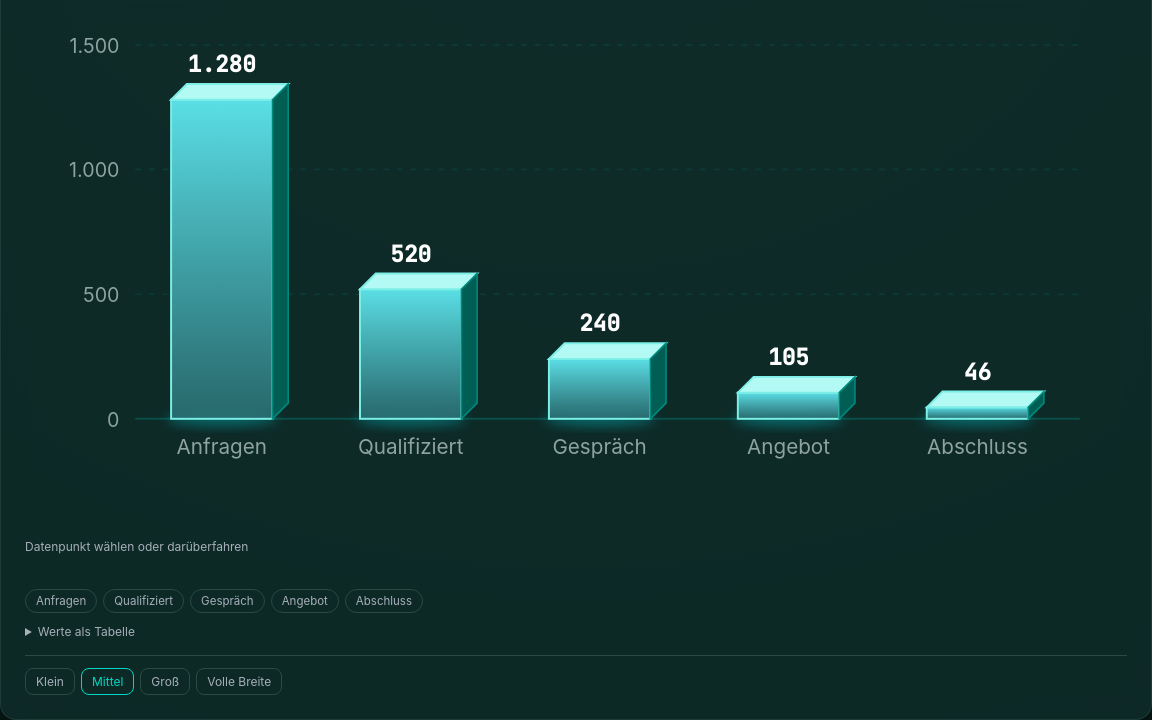
Scenario: DashboardDesignPreview › zeigt Wert, Einheit, Kategorie und Zeitraum, wenn eine Säule per Schaltfläche gewählt wird
(page scrolled)
Click the button "Gespräch": (227, 601) [190,589,265,613]
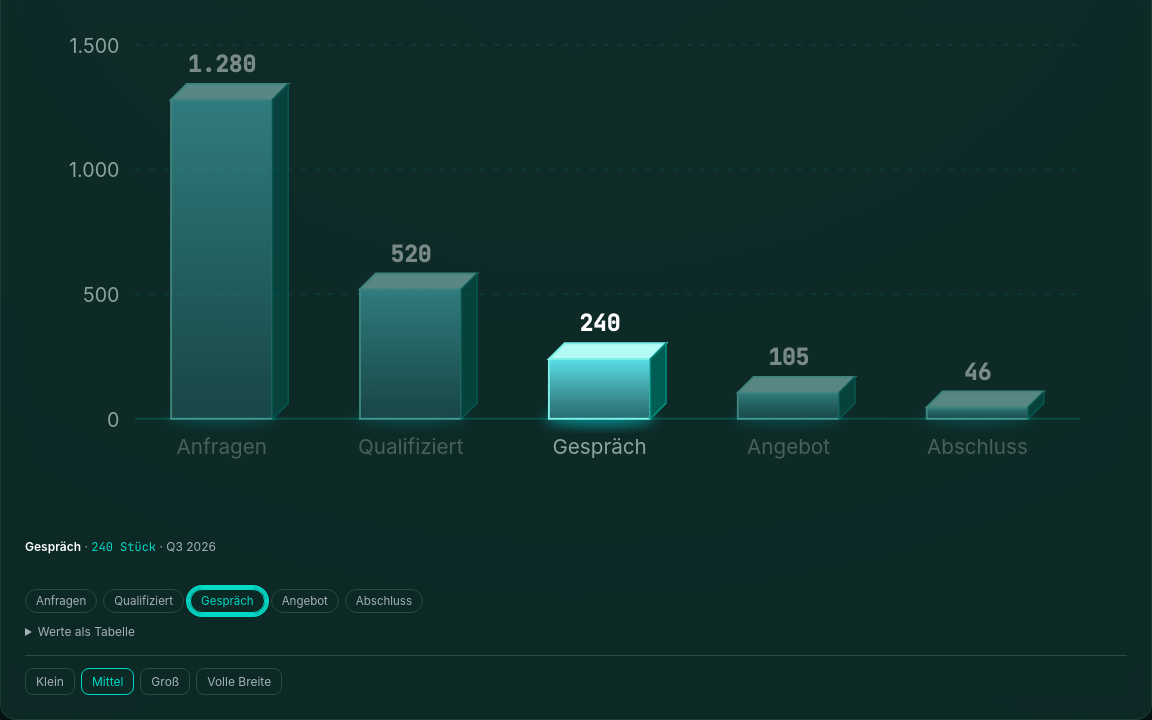
Result: the message with test id "chart-readout" shows "Gespräch" at [25,539,81,554]
Result: the message with test id "chart-readout" shows "240 Stück" at [91,539,156,555]
Result: the message with test id "chart-readout" shows "Q3 2026" at [166,539,216,554]
